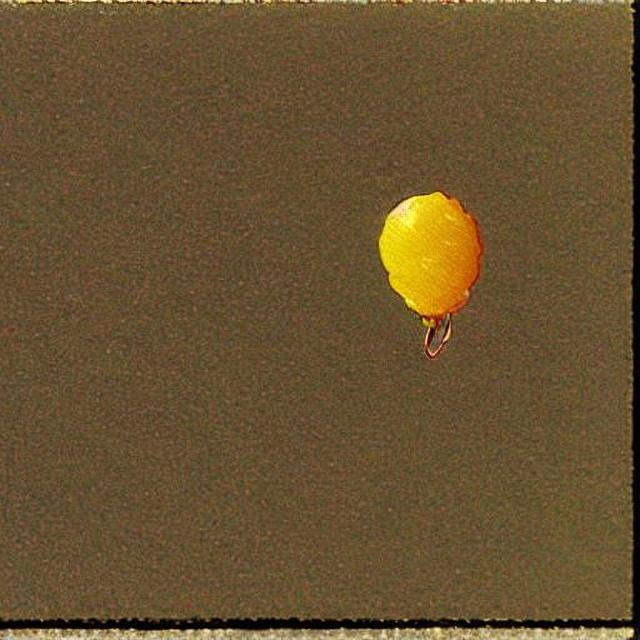balloon: (370, 185, 482, 349)
